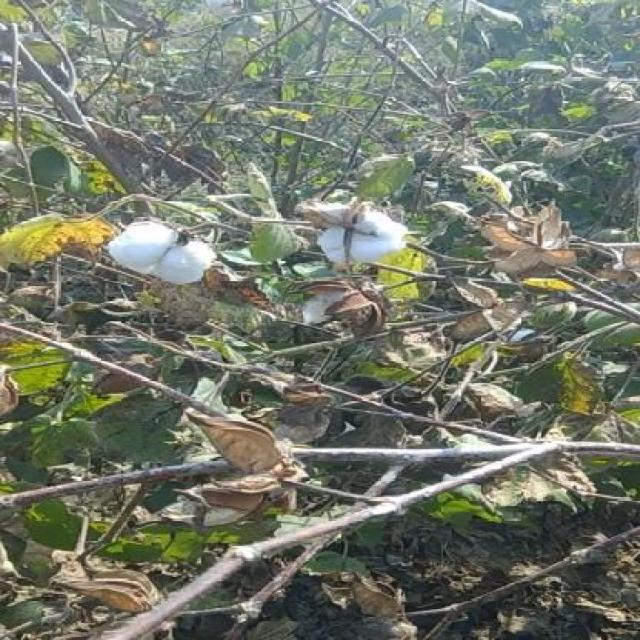cotton_ready: (297, 183, 452, 285), (89, 212, 237, 303)
